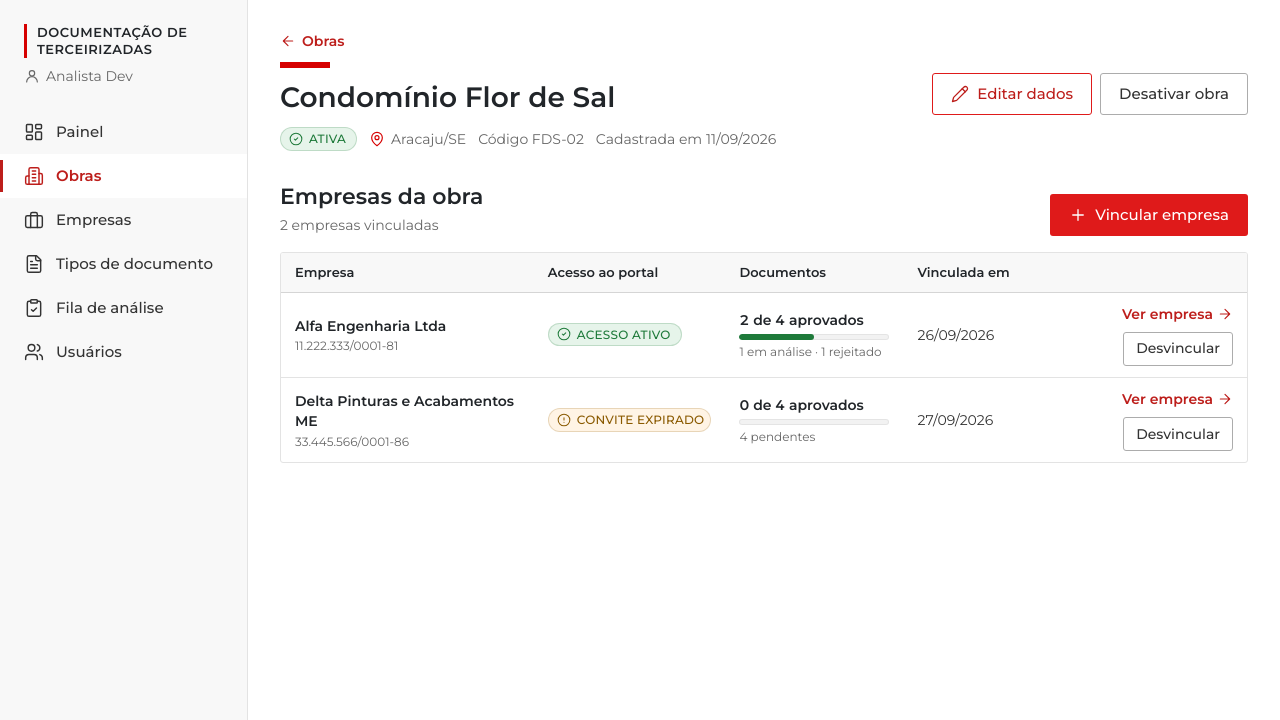
Detalhe da obra › vincula uma empresa e ela aparece na tabela (sem duplicar)
Expected: the heading "Condomínio Flor de Sal" is shown, [280,80,615,114]
Click the button "Vincular empresa" at (1149,215), box [1050,194,1248,236]
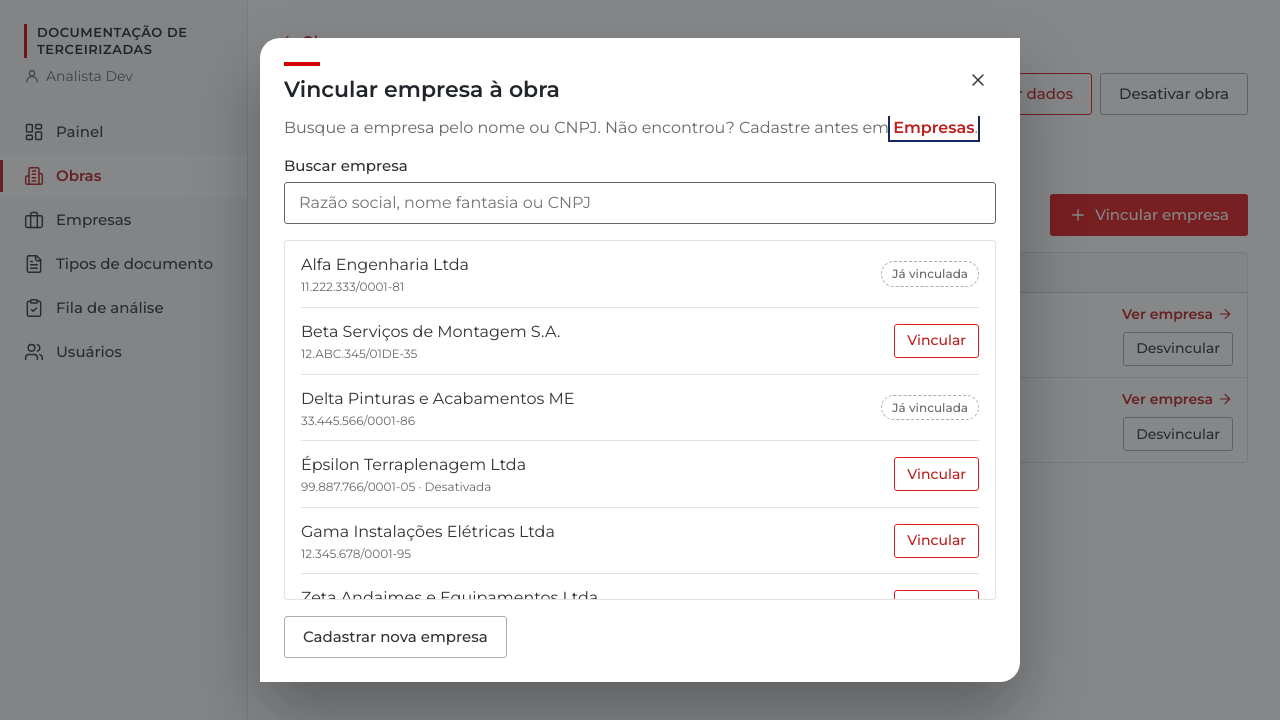
Type "gama" into the search field labelled "Buscar empresa" at (640,203), box [284,182,996,224]
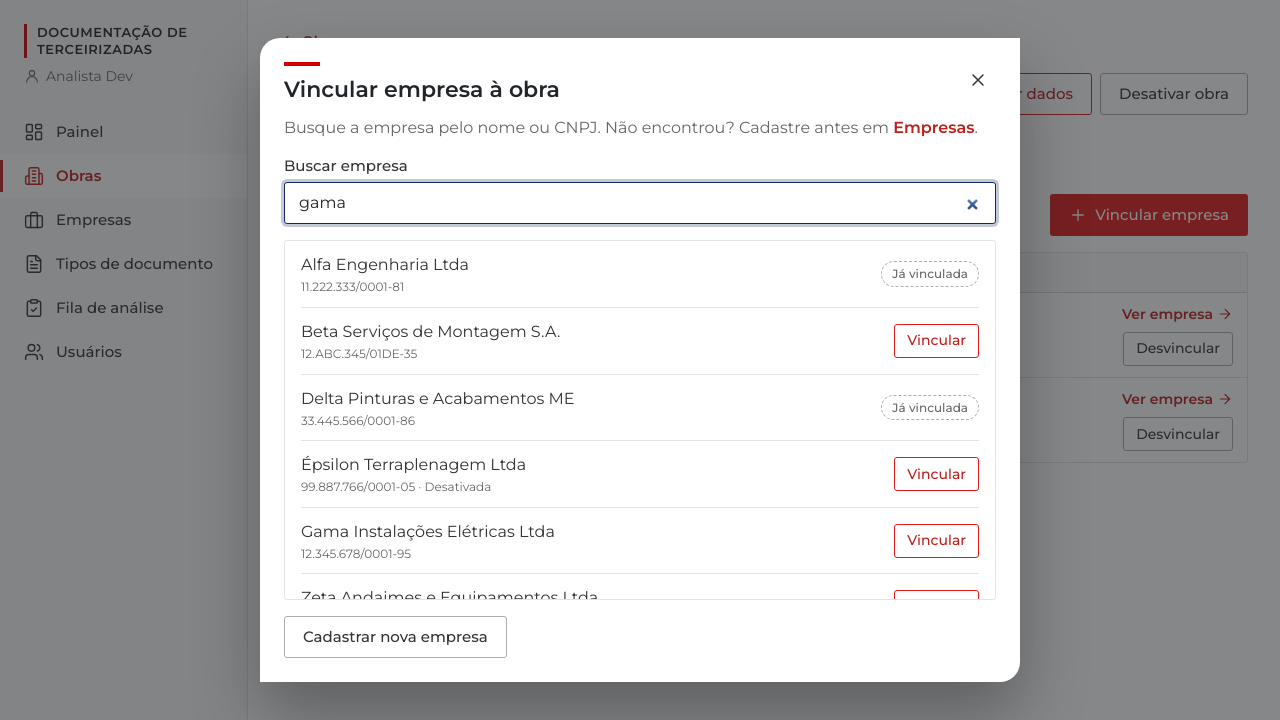
Click the button "Vincular" in the row of "Gama Instalações Elétricas Ltda" at (937,541), box [894,524,979,558]
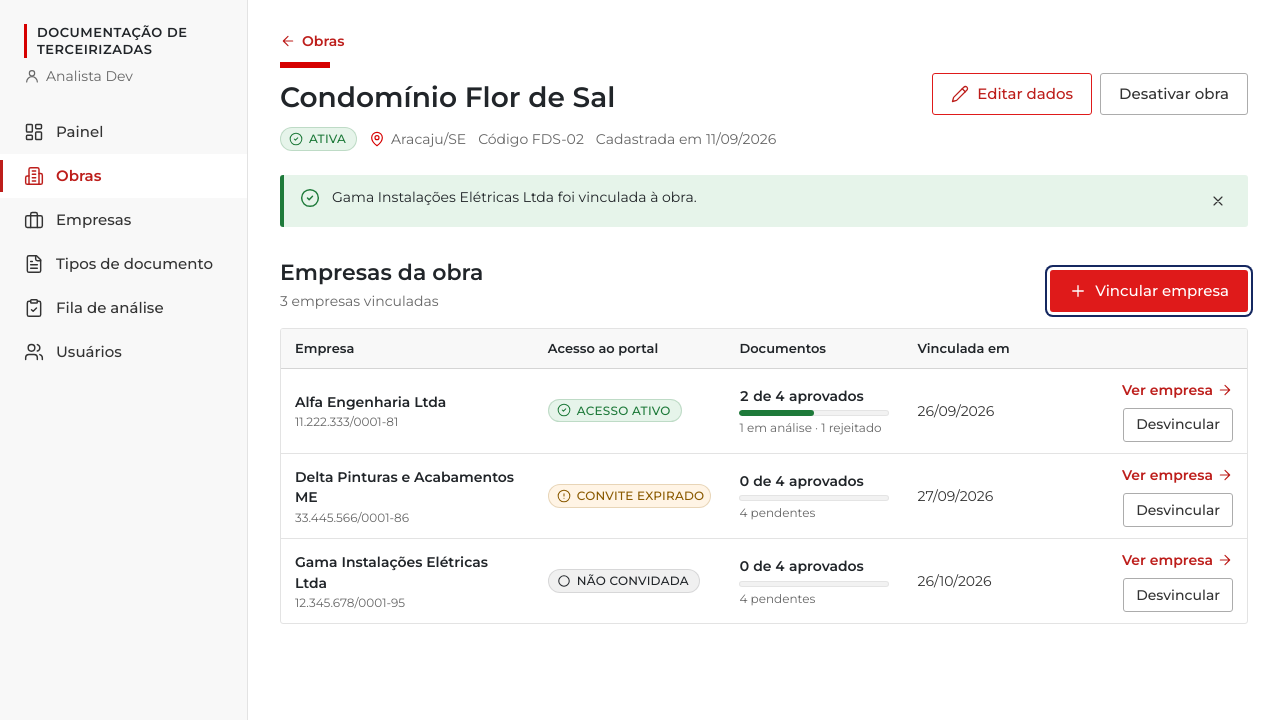
Expected: the dialog is gone
Expected: the number of links "Gama Instalações Elétricas Ltda" is 1, [295,553,488,592]
